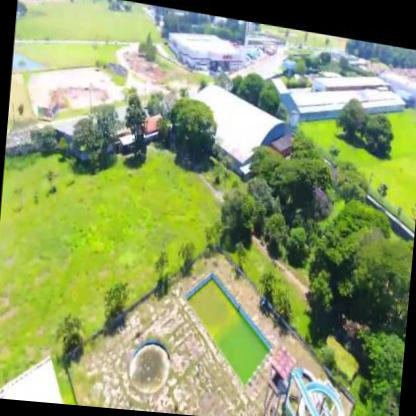agua: (218, 322, 270, 388), (186, 278, 238, 334), (127, 341, 174, 396)
